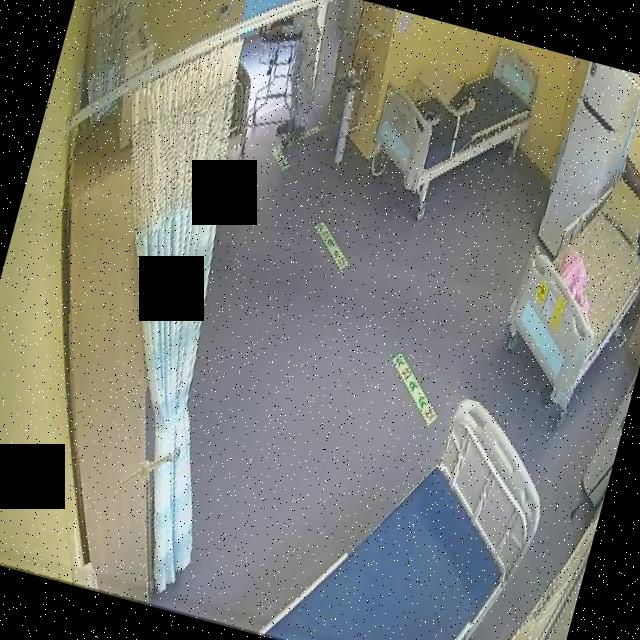bed: (262, 360, 568, 640), (493, 155, 640, 405), (362, 19, 544, 214)
patient: (237, 0, 341, 151)
